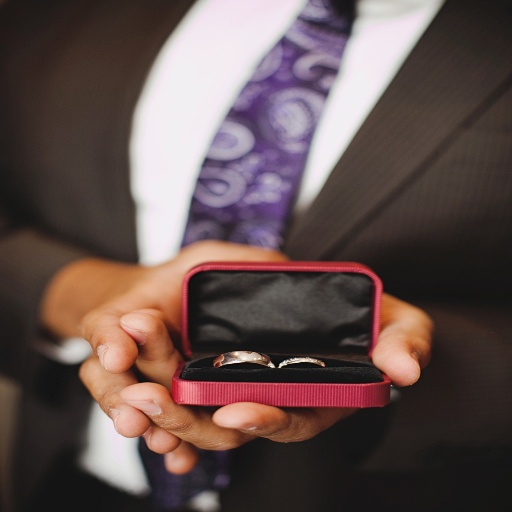hand: (112, 286, 433, 456)
